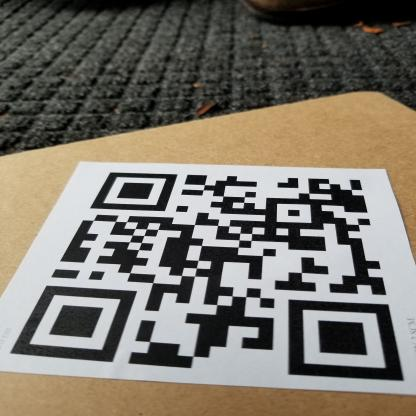qr: (4, 168, 410, 389)
